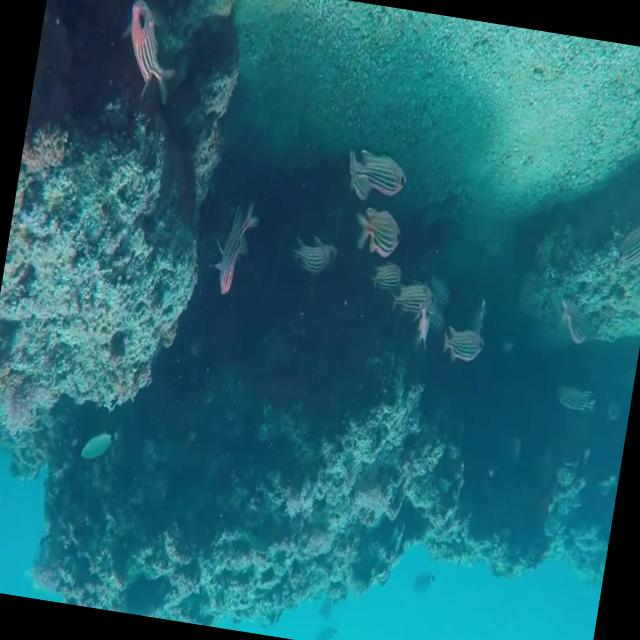Asker Baligi: (116, 0, 188, 109), (337, 146, 415, 202), (214, 200, 252, 306), (438, 316, 486, 374), (353, 210, 406, 262)
